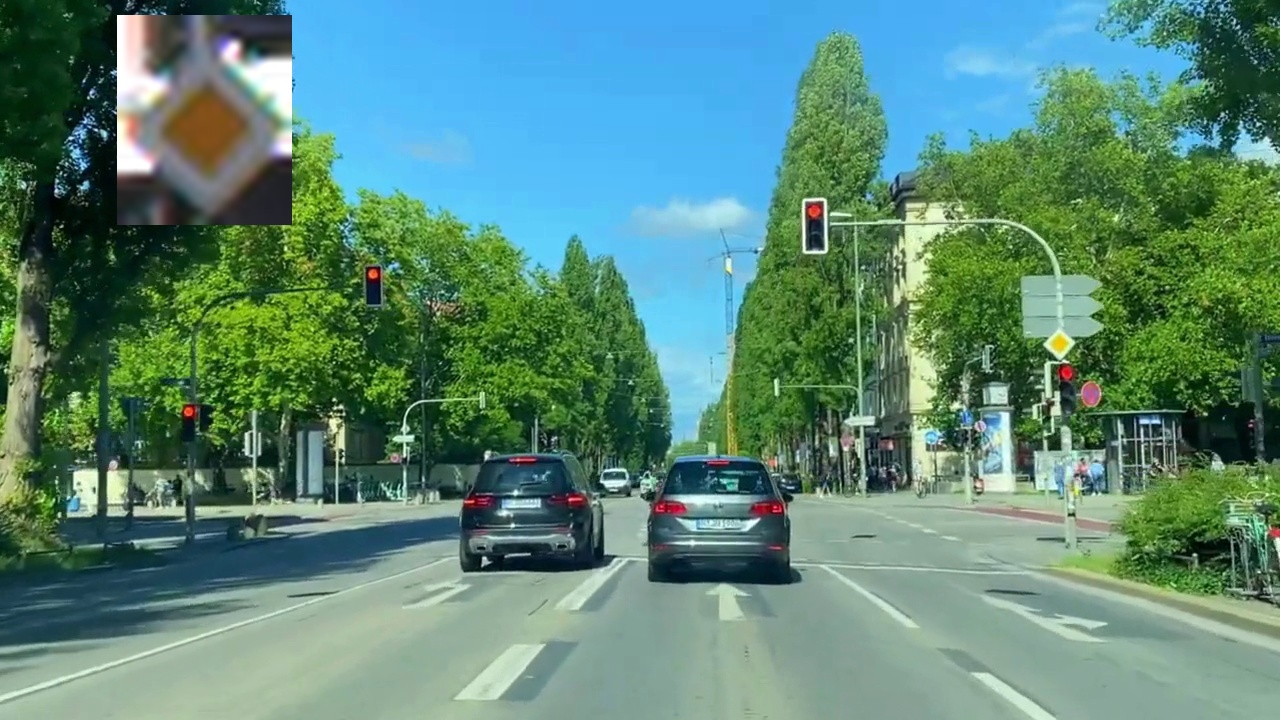Priority road: (117, 15, 292, 225)
